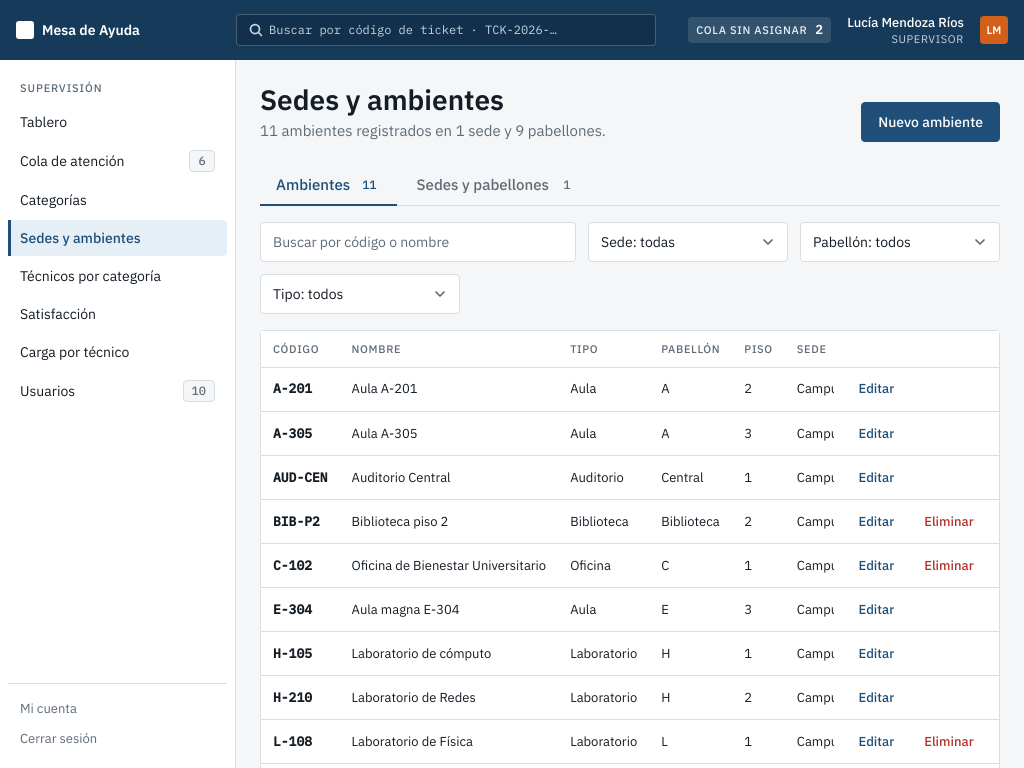
Test case: UbicacionesPage · ambientes › edita un ambiente
Expected: the element named "Secciones de sedes y ambientes" is shown, [260, 166, 1000, 206]
Expected: the text "Cola sin asignar" is shown, [696, 22, 807, 38]
Step 1. Click the button named "Editar A-201" → [877, 389], box [846, 373, 908, 405]
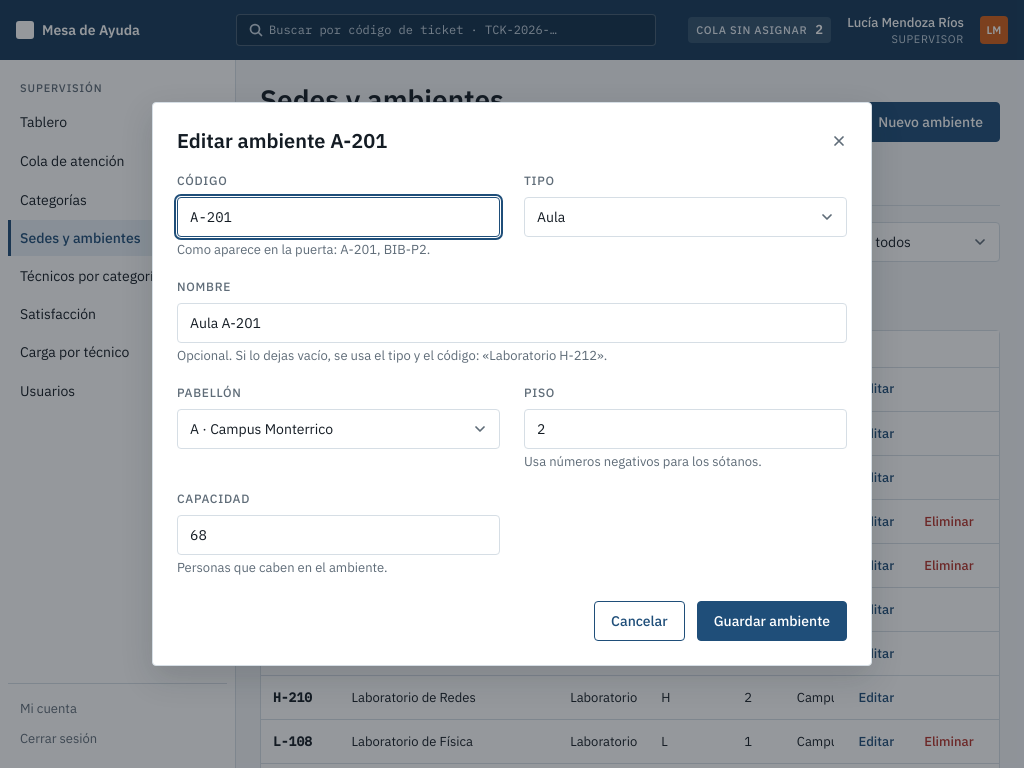
Expected: the field labelled "Capacidad" holds "68"
Step 2. Replace the text in the field labelled "Capacidad" with "70" → [338, 535], box [177, 515, 500, 555]
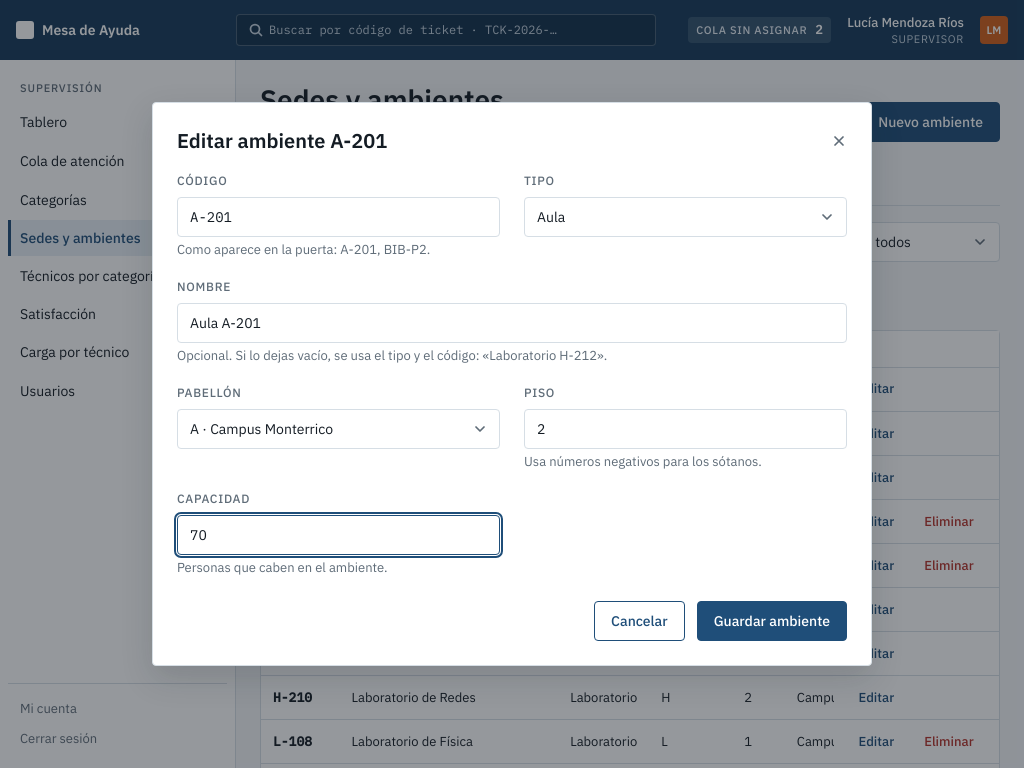
Step 3. Click the button "Guardar ambiente" → [772, 621], box [697, 601, 847, 641]
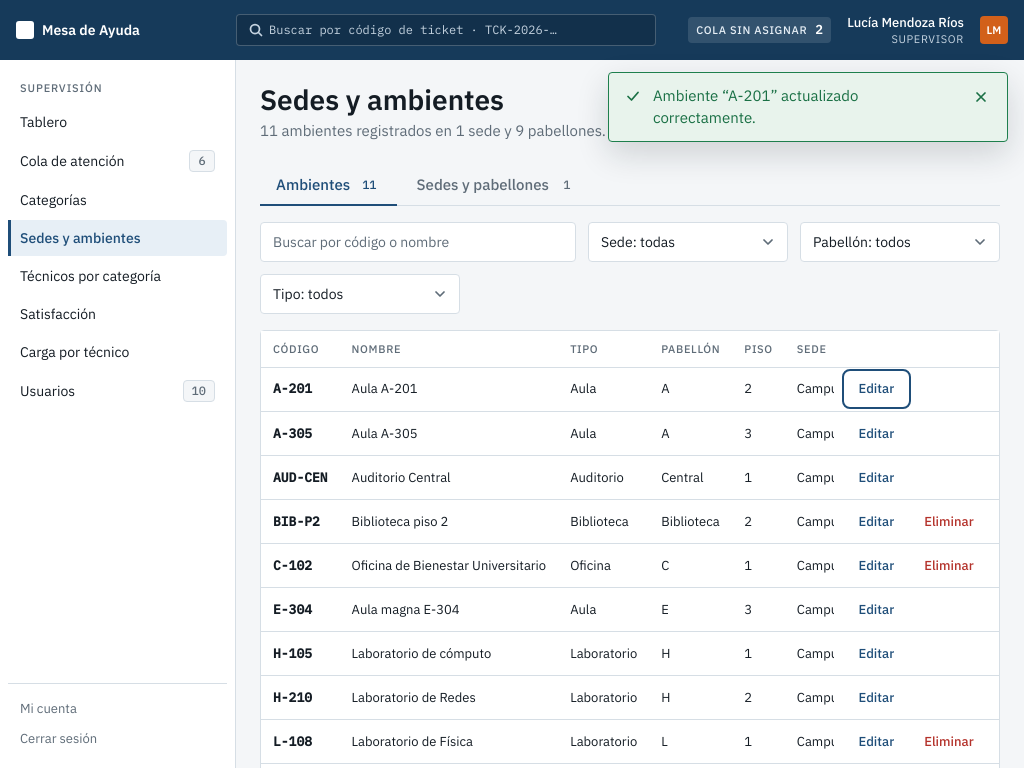
Expected: the text "Ambiente “A-201” actualizado correctamente." is shown, [652, 85, 858, 127]
